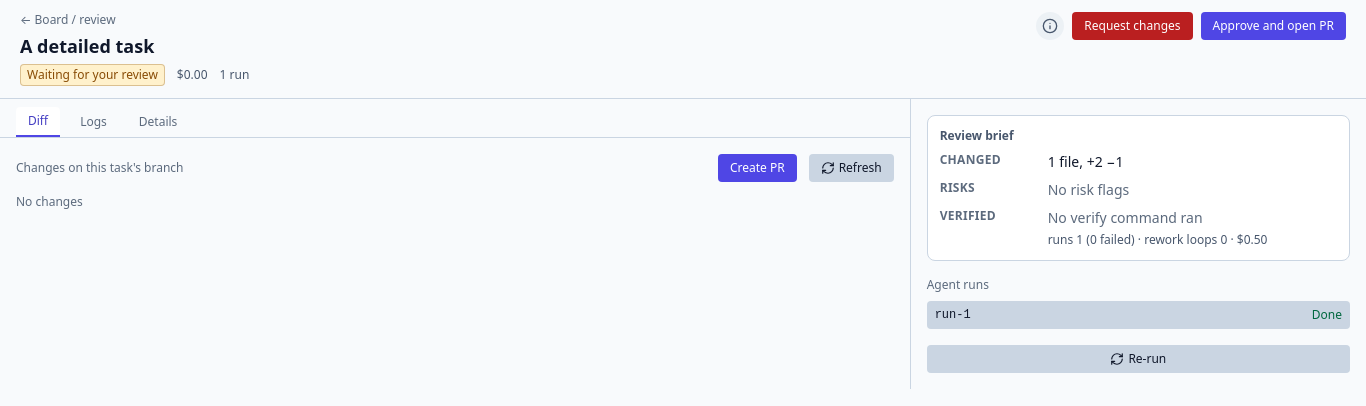
TaskDetailPage review layout › clicking a run in the rail switches to Logs
Expected: the element with test id "diff-review-pane" is shown, left=16, top=154, right=894, bottom=210
Click the button "run-1 Done".
click(953, 315)  # box left=927, top=301, right=1350, bottom=329
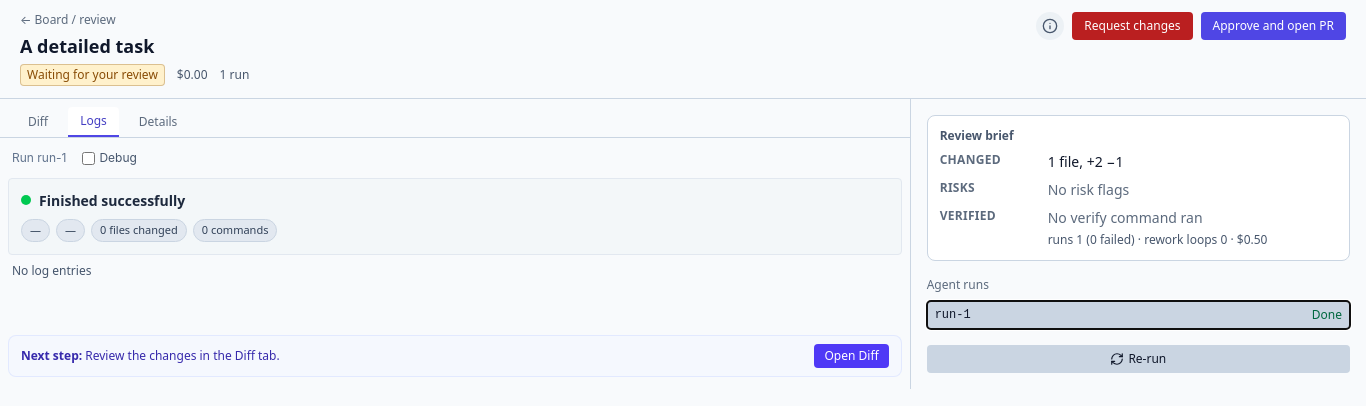
Now the element with test id "run-log-pane" is shown, box left=0, top=138, right=910, bottom=389
